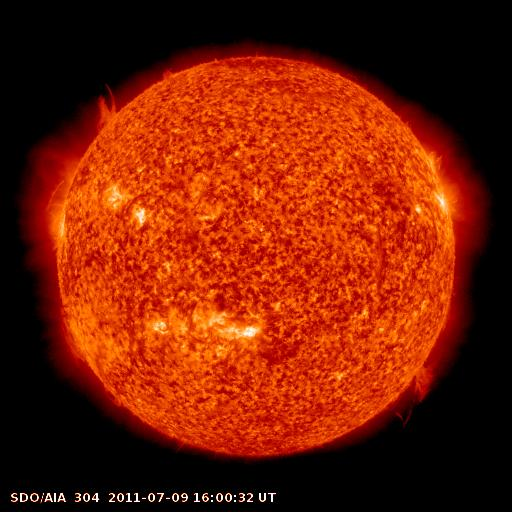prominence: (387, 355, 445, 429), (52, 306, 96, 368), (87, 76, 121, 144), (154, 57, 180, 91)
